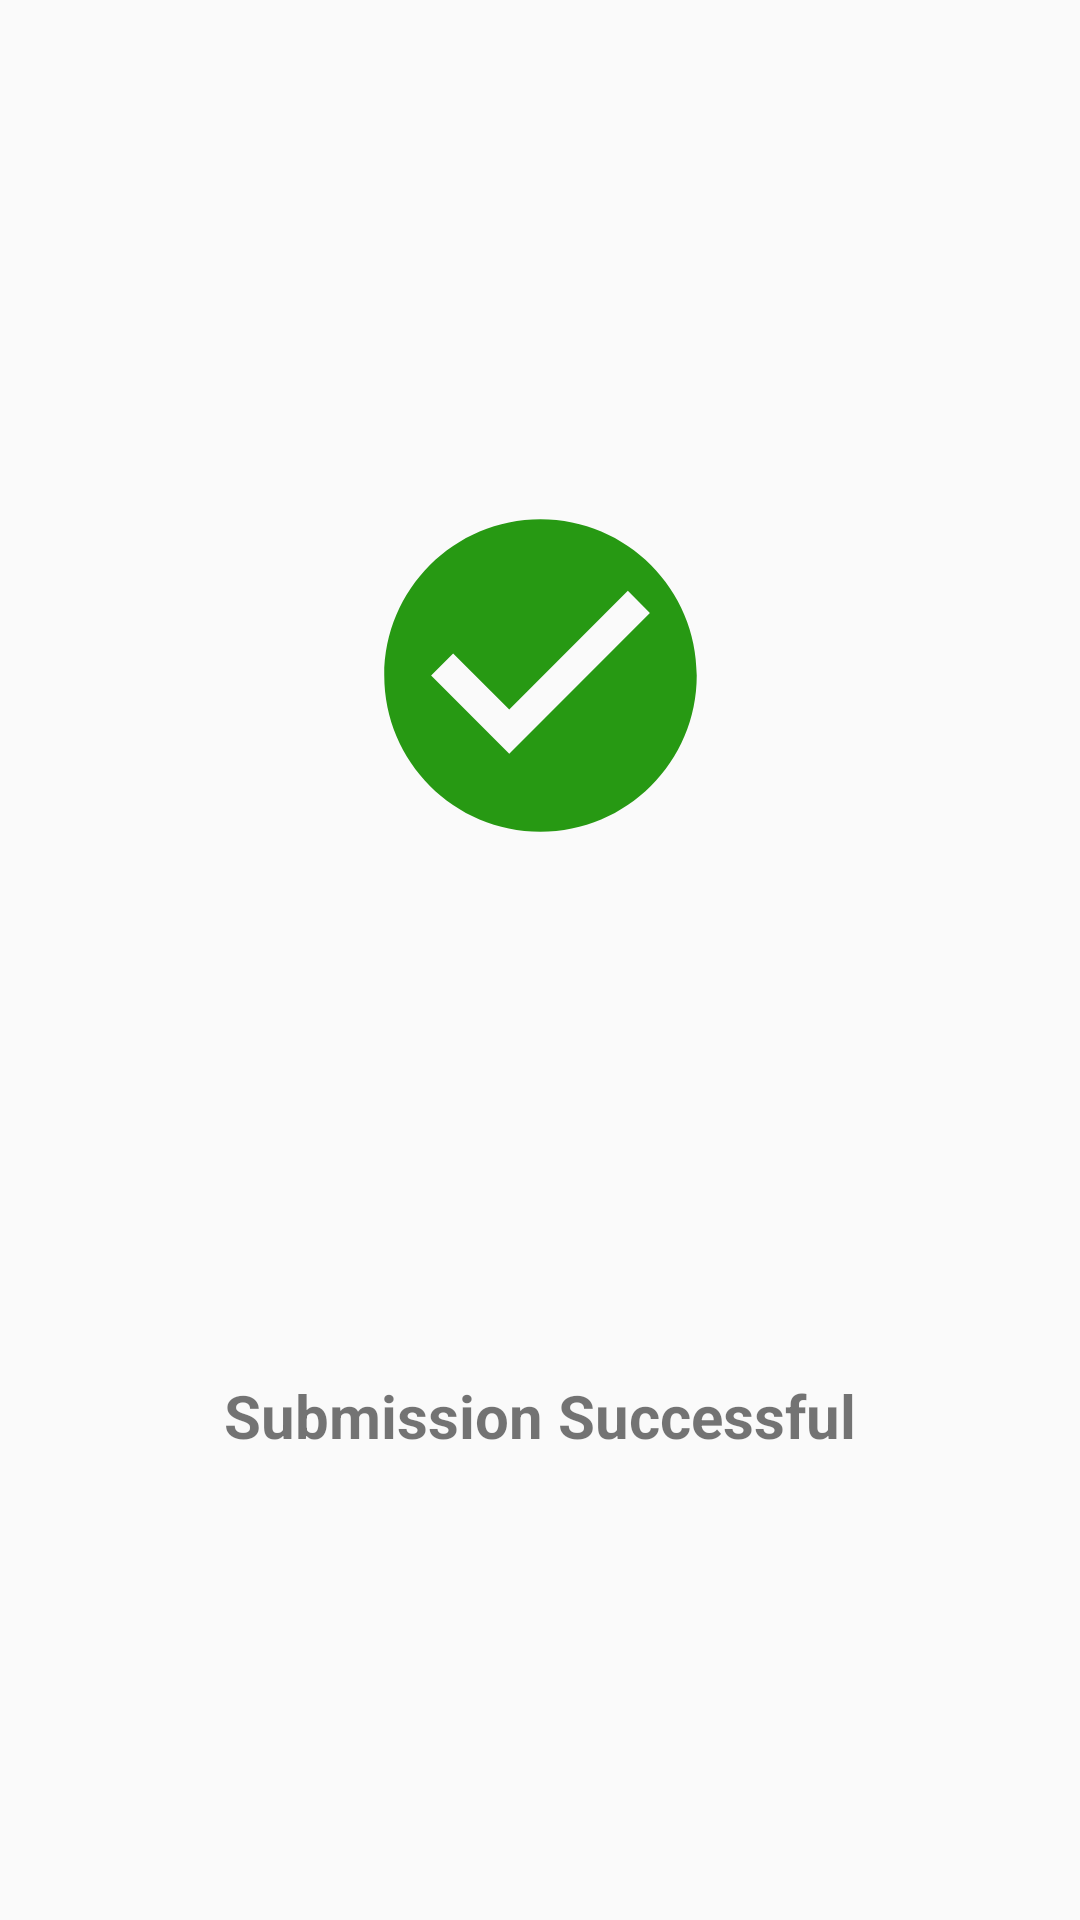

Point at icon controls on the screen. Image size 1080 x 1920, points as [x,y].
check circle: [540,675]
